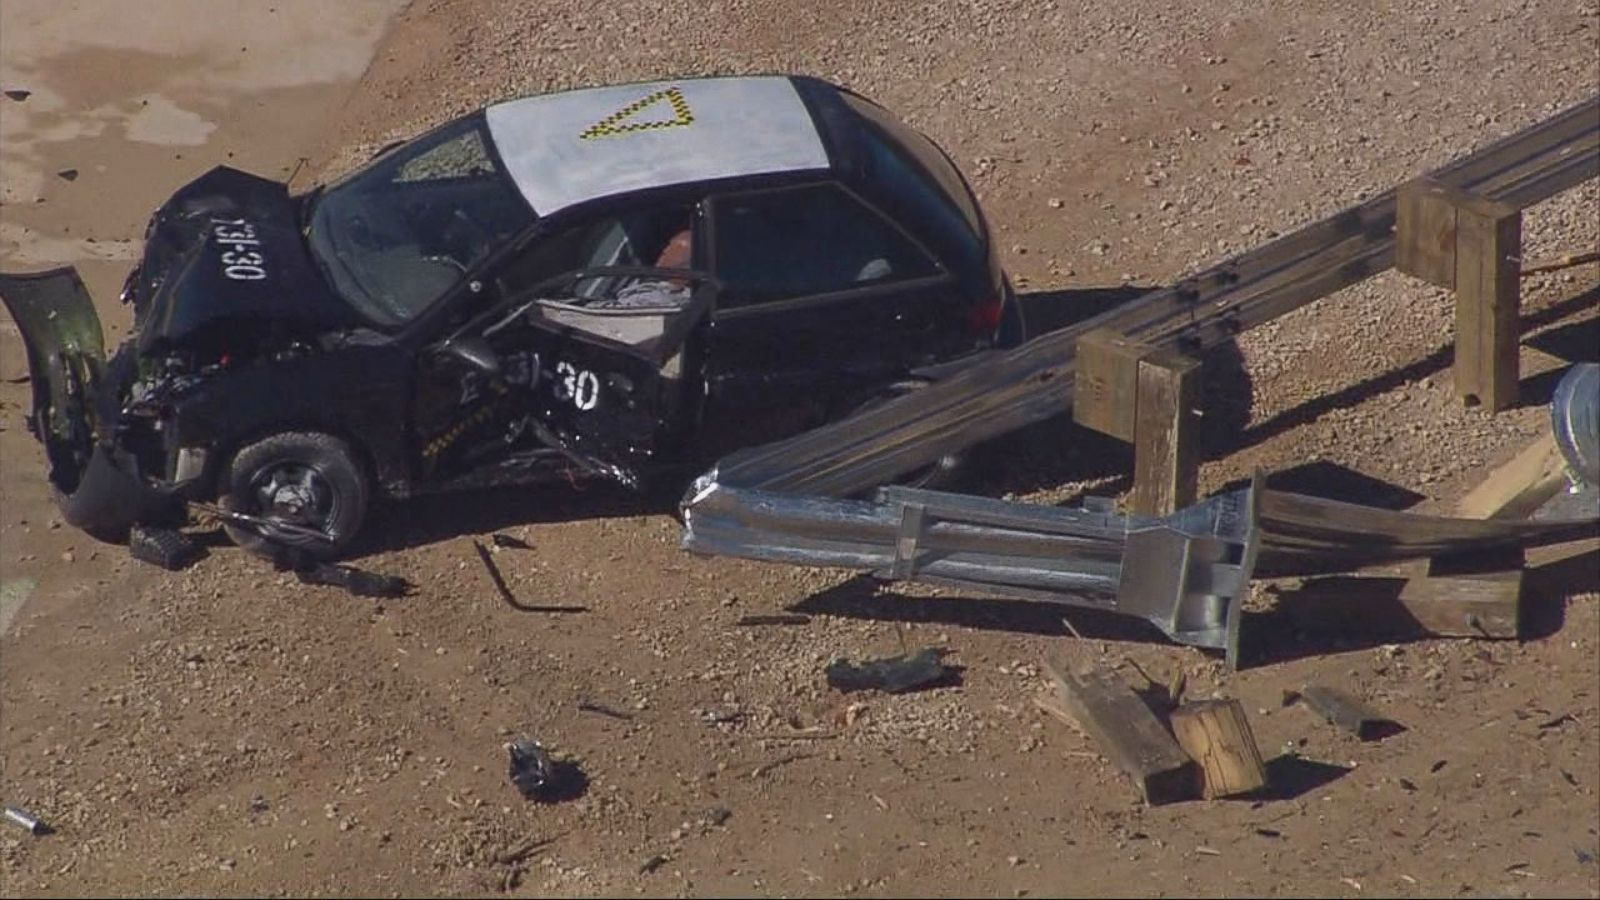damaged: (688, 463, 1600, 666)
